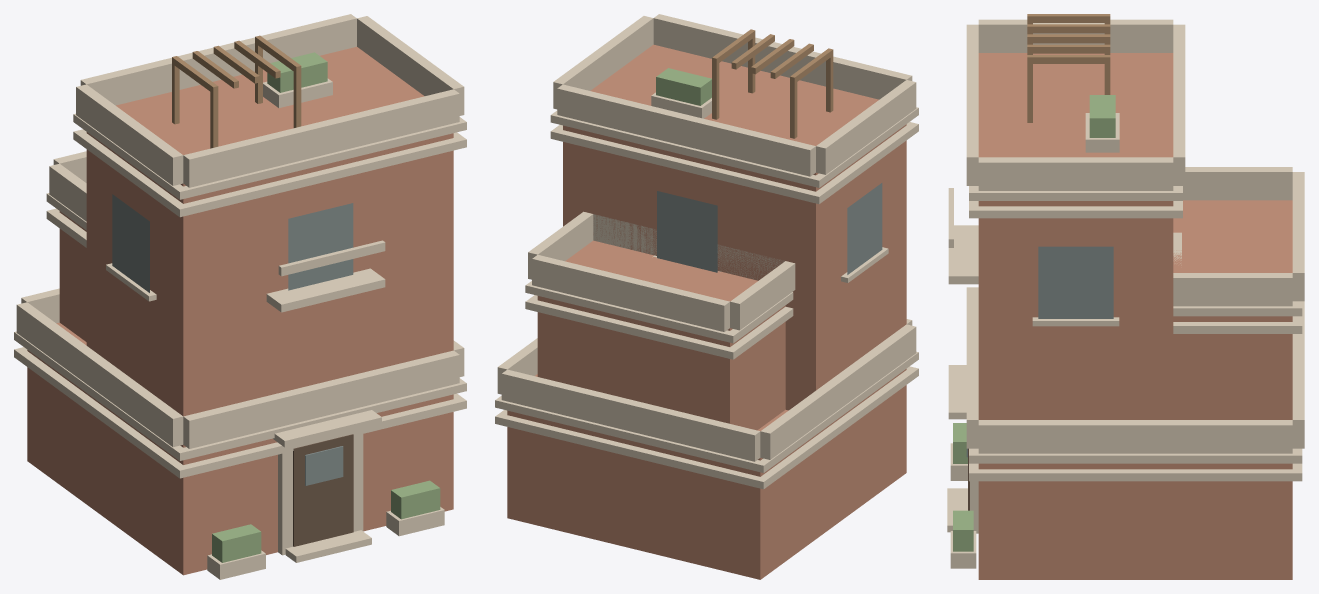
Rendered from residential_1x1_court.glb.
The picture shows the model from 3 angles, left to right: view 1: azimuth 30°, elevation 25°; view 2: azimuth 150°, elevation 25°; view 3: azimuth 270°, elevation 25°; orthographic projection. The views are drawn at different scales.
Visible parts, largest first — view 1: residential_1x1_court_0; view 2: residential_1x1_court_0; view 3: residential_1x1_court_0.
Boxes of the visible parts, <box> form: residential_1x1_court_0: <box>14,14,466,579</box>; residential_1x1_court_0: <box>495,14,918,579</box>; residential_1x1_court_0: <box>947,14,1304,579</box>.
Size of the model in its own units: 7 by 10.5 by 7.4.
